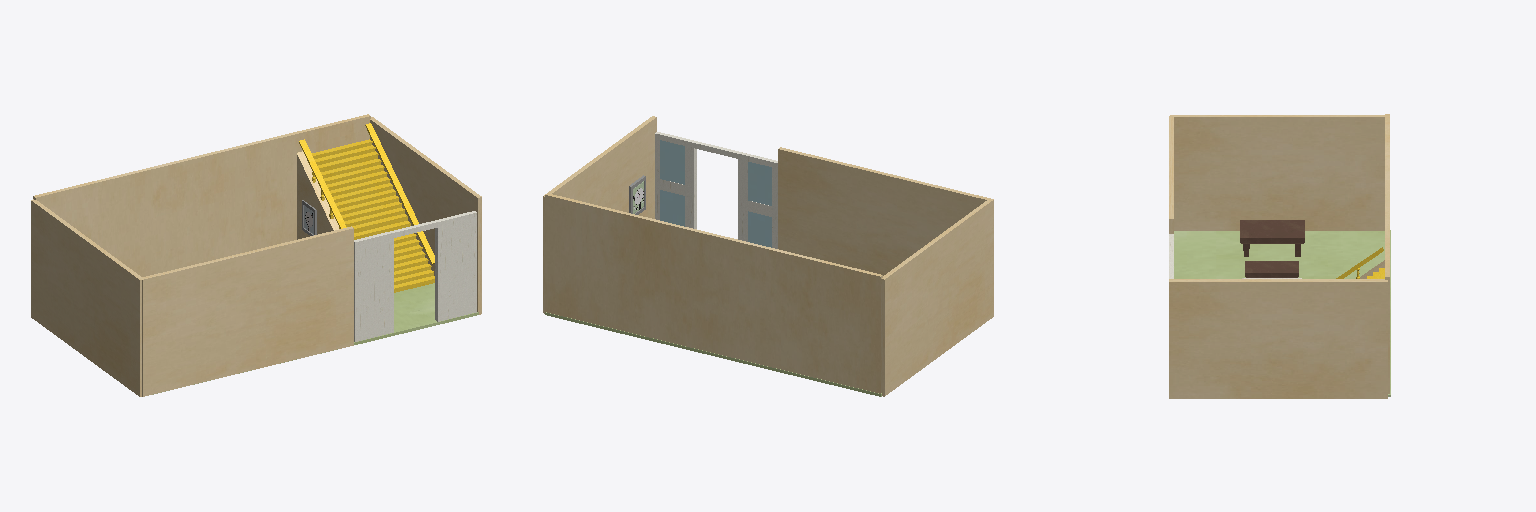
The picture shows the model from 3 angles: view 1: azimuth 30°, elevation 25°; view 2: azimuth 150°, elevation 25°; view 3: azimuth 270°, elevation 25°; orthographic projection.
Visible parts, largest first — view 1: group3 pasted__pCube4, group3 pasted__polySurface1, group3 pasted__pCube2, pasted__polySurface161 group8, group3 pasted__pSphere2, group3 pasted__pCube3, pasted__pCube1 group3; view 2: group3 pasted__polySurface1, group3 pasted__pCube4, group3 pasted__pCube2, group3 pasted__pSphere2, group3 pasted__pCube3, pasted__pCube1 group3, cuadro_papaleta_entrada:AnyConv_com__Pops_Ready:Box006 cuadro_pa; view 3: group3 pasted__pCube3, group3 pasted__pCube2, pasted__pCube1 group3, group3 pasted__pasted__pasted__group3pasted__groupgroup4Box006, group3 pasted__polySurface1, group3 pasted__Box005pasted__pasted__group3pasted__groupgroup4, group3 pasted__pCube4.
Boxes of the visible parts, x1,y1,x2,y2 form: group3 pasted__pCube4: [142, 226, 353, 396]; group3 pasted__polySurface1: [33, 114, 370, 276]; group3 pasted__pCube2: [31, 199, 143, 396]; pasted__polySurface161 group8: [297, 123, 434, 292]; group3 pasted__pSphere2: [354, 211, 476, 341]; group3 pasted__pCube3: [370, 117, 481, 314]; pasted__pCube1 group3: [153, 283, 478, 394]; group3 pasted__polySurface1: [545, 193, 882, 393]; group3 pasted__pCube4: [778, 147, 990, 275]; group3 pasted__pCube2: [881, 199, 993, 396]; group3 pasted__pSphere2: [655, 132, 777, 248]; group3 pasted__pCube3: [543, 116, 656, 313]; pasted__pCube1 group3: [545, 312, 881, 396]; cuadro_papaleta_entrada:AnyConv_com__Pops_Ready:Box006 cuadro_pa: [629, 175, 645, 214]; group3 pasted__pCube3: [1169, 279, 1387, 398]; group3 pasted__pCube2: [1170, 115, 1384, 230]; pasted__pCube1 group3: [1174, 230, 1390, 396]; group3 pasted__pasted__pasted__group3pasted__groupgroup4Box006: [1240, 220, 1304, 256]; group3 pasted__polySurface1: [1385, 114, 1389, 393]; group3 pasted__Box005pasted__pasted__group3pasted__groupgroup4: [1245, 261, 1298, 277]; group3 pasted__pCube4: [1169, 116, 1173, 233].
Size of the model in its own units: 34.76 by 11.77 by 19.51.
Materials: 16 (11 with a texture image).